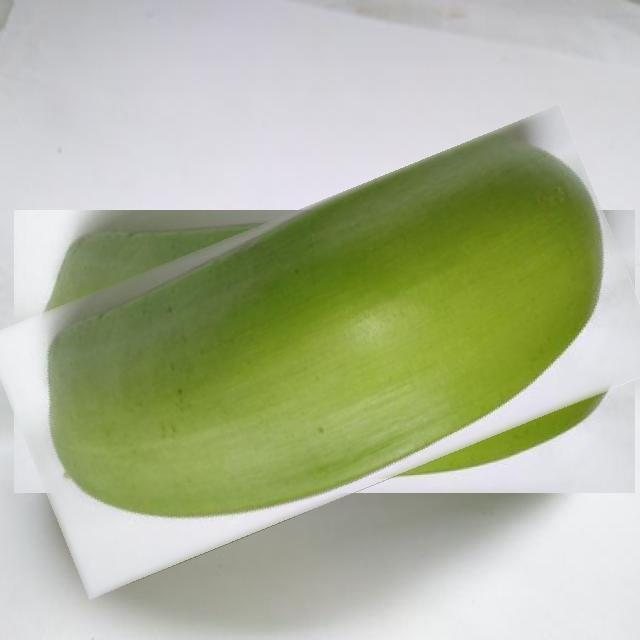Verde: (0, 157, 640, 548)
